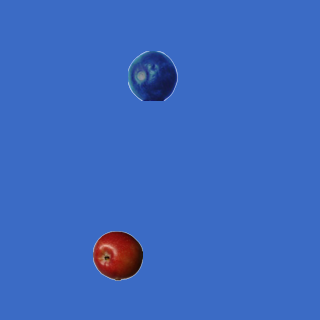Apple Braeburn: (92, 230, 142, 280)
Huckleberry: (127, 50, 177, 100)
